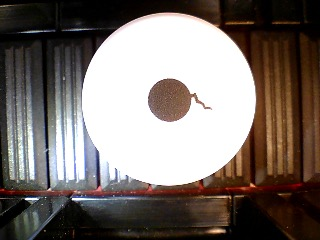CRACK: (81, 12, 257, 187)
